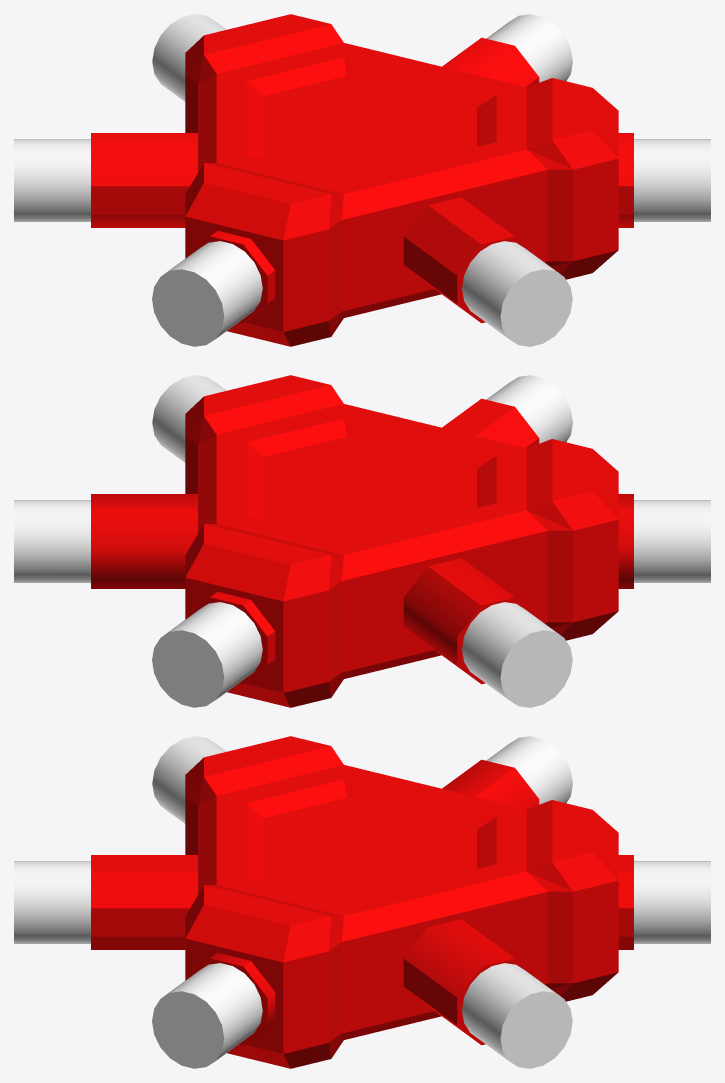
Rendered from Holo_parc.fbx.
3 views of the same model, one above another, from view 1: azimuth 30°, elevation 25°; view 2: azimuth 150°, elevation 25°; view 3: azimuth 270°, elevation 25° (orthographic).
Parts seen in each view (by area): view 1: Holo_Parc, Connexion (×6); view 2: Holo_Parc, Connexion (×6); view 3: Holo_Parc, Connexion (×6).
Boxes of the visible parts, x1,y1,x2,y2 form: Holo_Parc: (91, 14, 633, 346); Connexion (×6): (14, 14, 710, 346); Holo_Parc: (91, 375, 633, 707); Connexion (×6): (14, 375, 710, 707); Holo_Parc: (91, 736, 633, 1068); Connexion (×6): (14, 736, 710, 1068).
Bounding box in the file's own units: 722 × 177 × 780.
